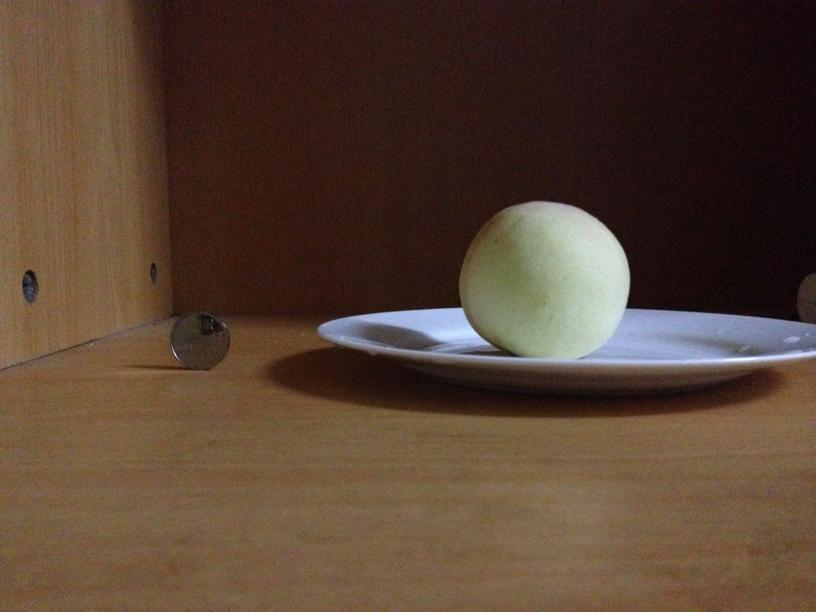coin: (169, 309, 228, 372)
peach: (461, 202, 633, 361)
